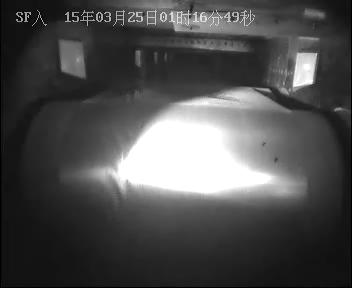wrinkled steel: (108, 146, 139, 209), (207, 88, 249, 106), (120, 82, 151, 102)
